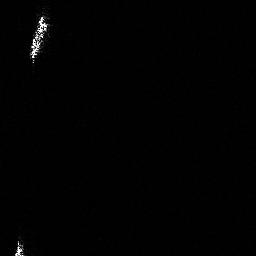ship: (28, 15, 49, 64), (11, 238, 27, 256)
